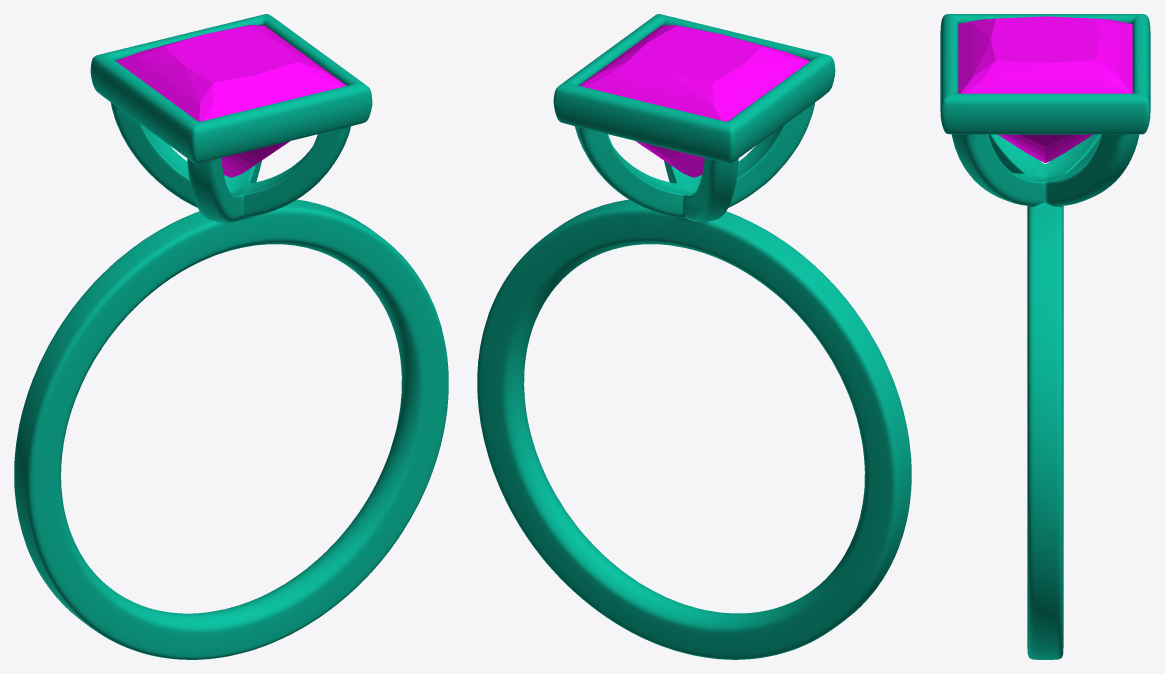
The model's file is BE1808_PR_200ct_RENDER.glb.
3 views of the same model, side by side, from view 1: azimuth 30°, elevation 25°; view 2: azimuth 150°, elevation 25°; view 3: azimuth 270°, elevation 25° (orthographic).
Visible parts, largest first — view 1: Metal 01, CS_Diamond_Princess; view 2: Metal 01, CS_Diamond_Princess; view 3: Metal 01, CS_Diamond_Princess.
Boxes of the visible parts, x1=… form: Metal 01: x1=14, y1=14, x2=448, y2=659; CS_Diamond_Princess: x1=116, y1=25, x2=346, y2=177; Metal 01: x1=477, y1=14, x2=911, y2=659; CS_Diamond_Princess: x1=579, y1=25, x2=809, y2=177; Metal 01: x1=940, y1=14, x2=1150, y2=659; CS_Diamond_Princess: x1=958, y1=16, x2=1132, y2=163.
Bounding box in the file's own units: 20.11 × 27.12 × 8.64.
